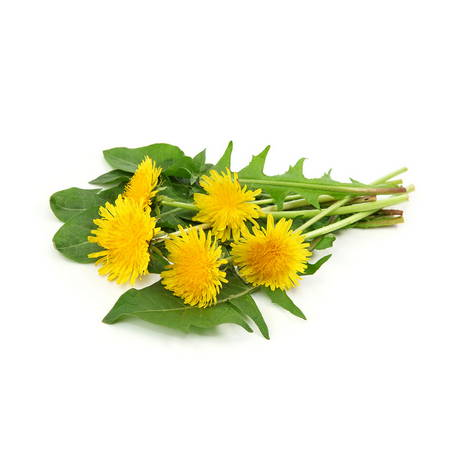begonvil: (159, 220, 231, 325), (87, 196, 165, 290), (186, 168, 266, 249), (235, 219, 312, 295), (120, 156, 159, 208)
